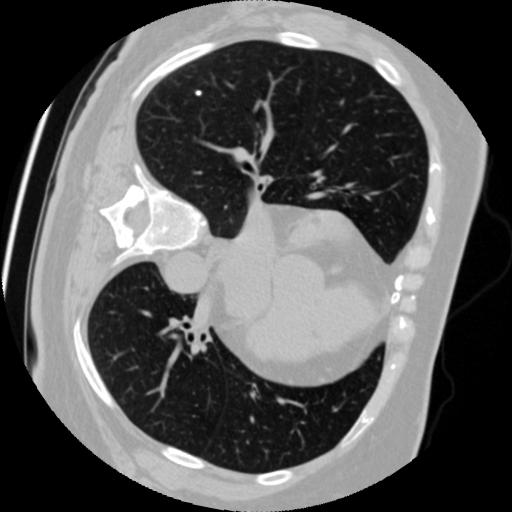nodule: (193, 86, 207, 100)
